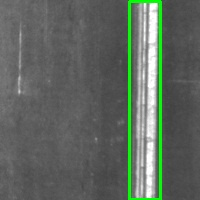scratches: (129, 1, 160, 199)
